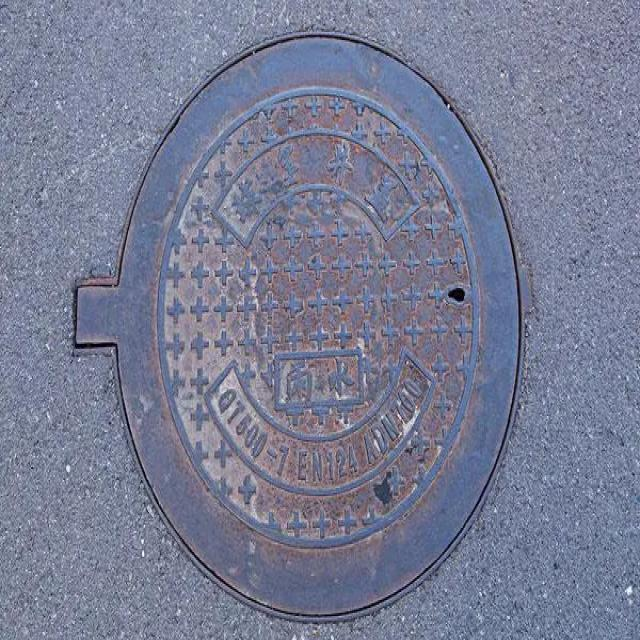manhole: (72, 31, 529, 626)
